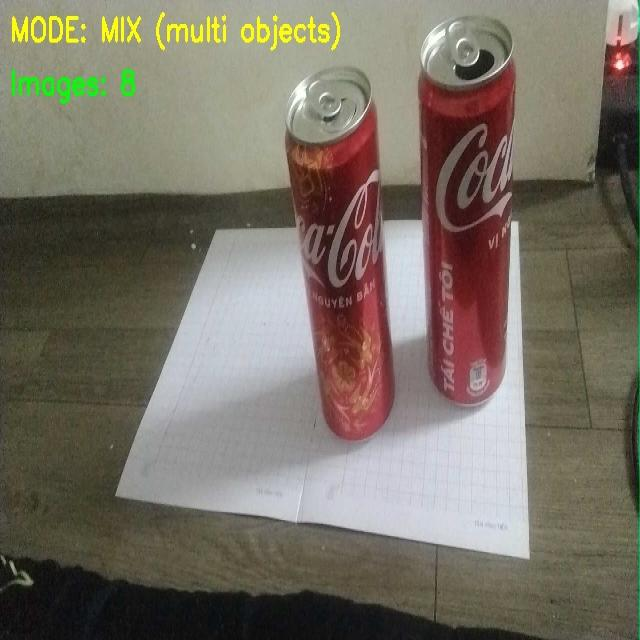Coca: (273, 50, 400, 459)
Coca_open: (416, 26, 530, 420)
